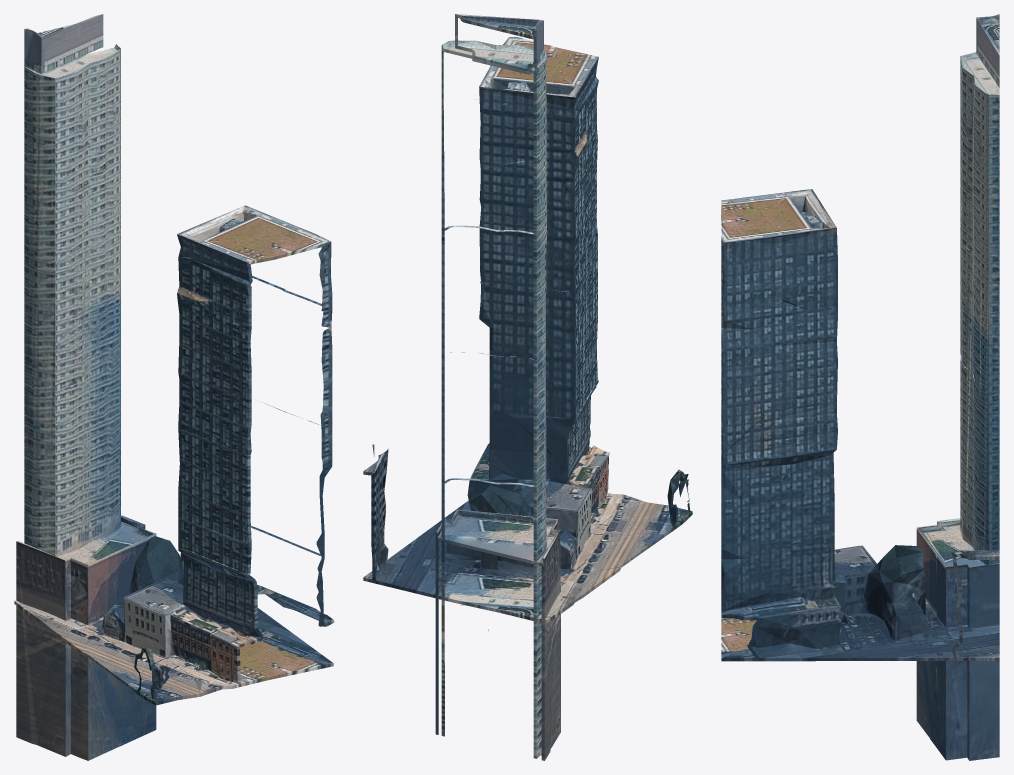
File: chunk_6_0.glb
3 renders of one model, left to right at view 1: azimuth 30°, elevation 25°; view 2: azimuth 150°, elevation 25°; view 3: azimuth 270°, elevation 25°, orthographic. The views are drawn at different scales.
Visible parts, largest first — view 1: hero-chunk; view 2: hero-chunk; view 3: hero-chunk.
Boxes of the visible parts, box(x1,y1,x2,y2) form: hero-chunk: box(14, 14, 334, 760); hero-chunk: box(363, 14, 692, 760); hero-chunk: box(721, 14, 999, 760).
Size of the model in its own units: 55.73 by 210 by 76.32.
3 materials, 3 textured.
